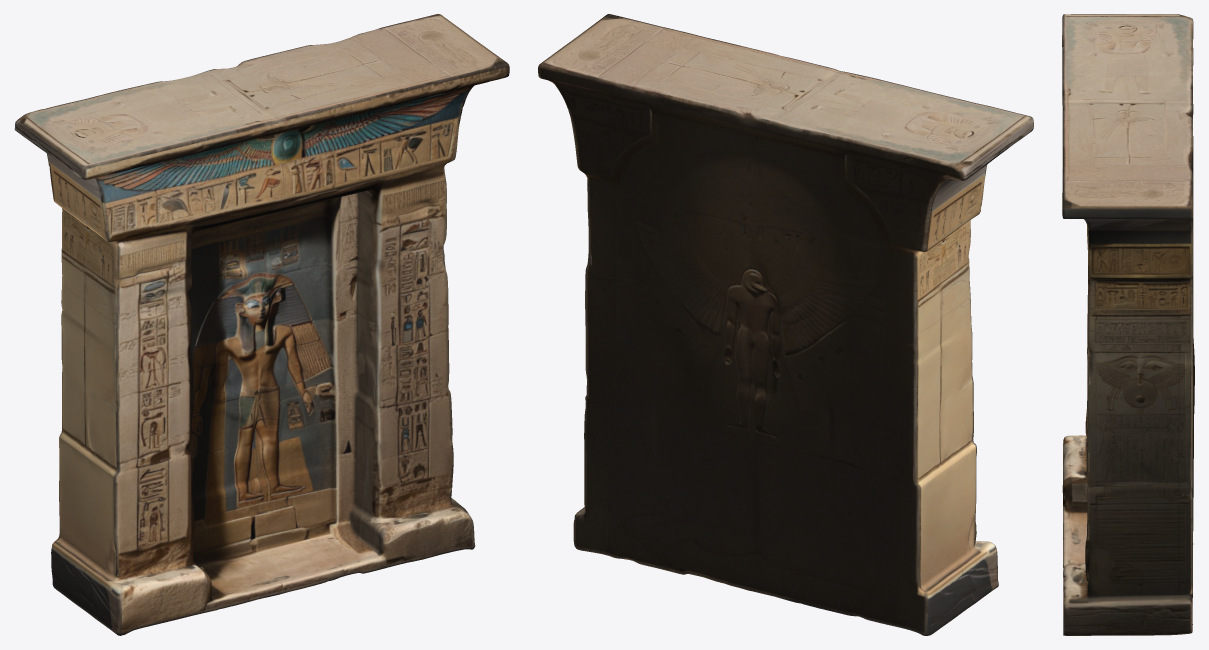
Rendered from Ancient_Egyptian_Door_0830212550.fbx.
The picture shows the model from 3 angles, left to right: view 1: azimuth 30°, elevation 25°; view 2: azimuth 150°, elevation 25°; view 3: azimuth 270°, elevation 25°; orthographic projection. The views are drawn at different scales.
Visible parts, largest first — view 1: Mesh_0; view 2: Mesh_0; view 3: Mesh_0.
Boxes of the visible parts, x1,y1,x2,y2 form: Mesh_0: [14, 14, 509, 635]; Mesh_0: [538, 14, 1033, 635]; Mesh_0: [1062, 14, 1194, 635].
Bounding box in the file's own units: 186 × 200 × 53.87.
1 material, 1 textured.
